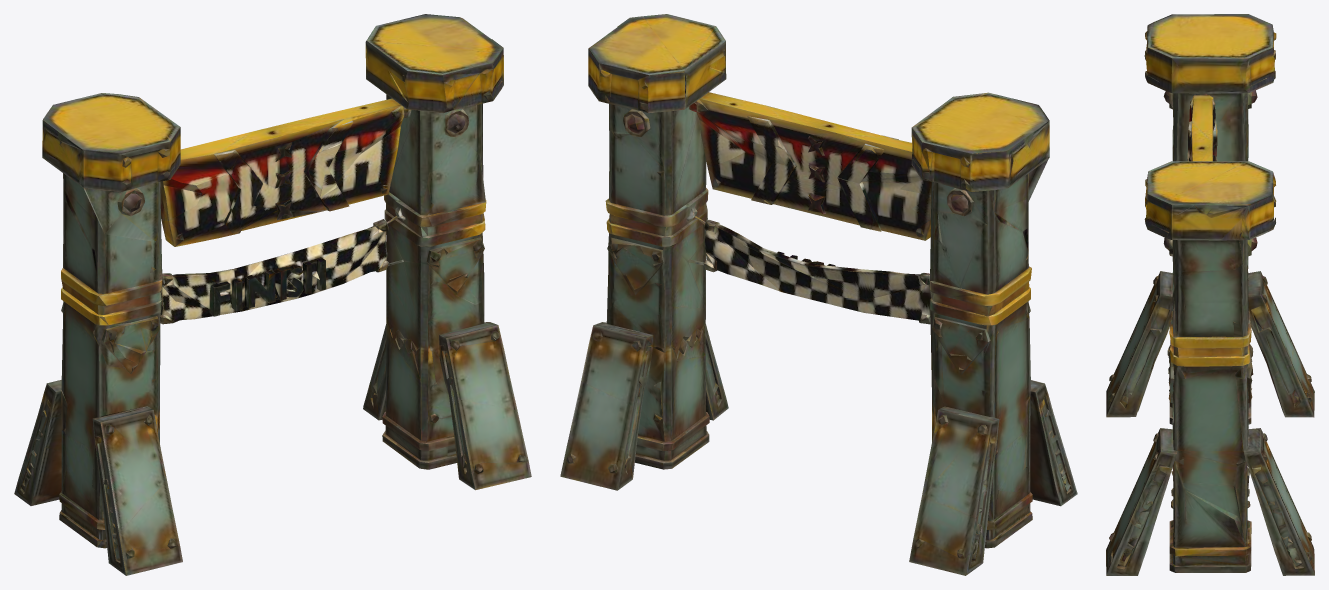
The model's file is finish-line.lod.glb.
3 views of the same model, side by side, from view 1: azimuth 30°, elevation 25°; view 2: azimuth 150°, elevation 25°; view 3: azimuth 270°, elevation 25° (orthographic). The views are drawn at different scales.
Size of the model in its own units: 1.9 by 1.72 by 0.8686.
Materials: 1 (1 with a texture image).
